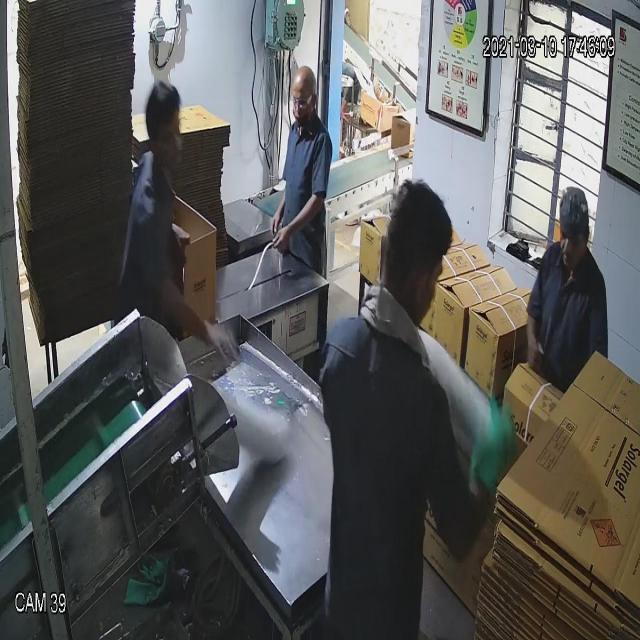No_Gloves: (61, 75, 492, 452)
